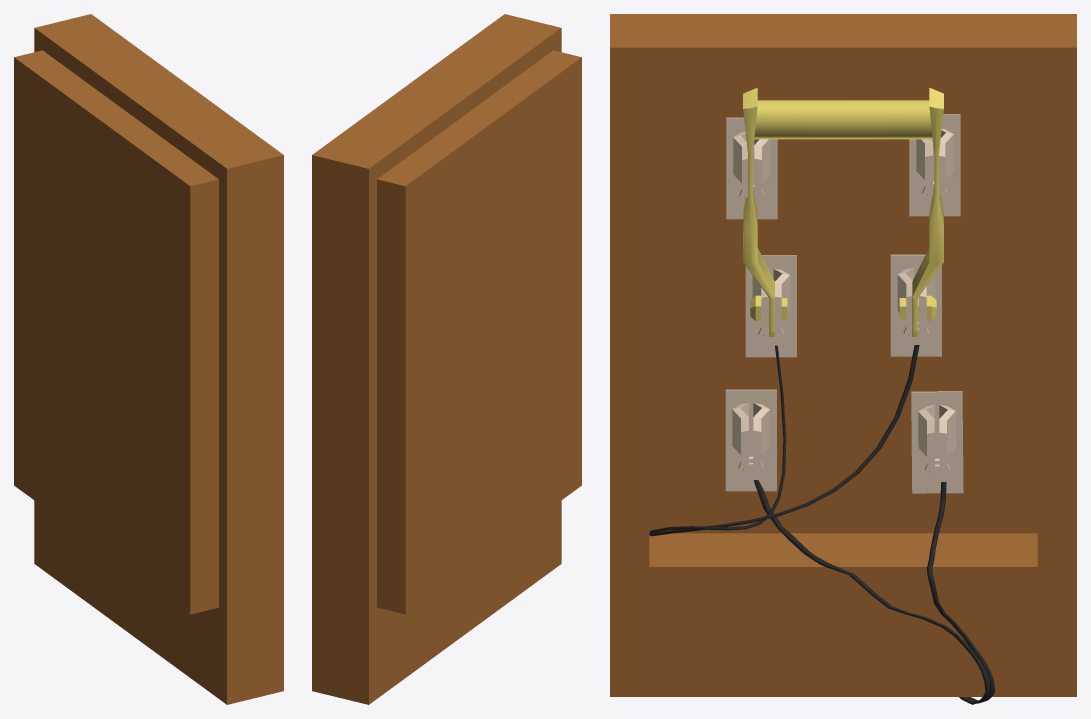
Rendered from Blackout_Lever.fbx.
The picture shows the model from 3 angles, left to right: view 1: azimuth 30°, elevation 25°; view 2: azimuth 150°, elevation 25°; view 3: azimuth 270°, elevation 25°; orthographic projection. The views are drawn at different scales.
Parts seen in each view (by area): view 1: Blackout_Box; view 2: Blackout_Box; view 3: Blackout_Box, Blackout_Lever.
Boxes of the visible parts, left/top/right/bottom form: Blackout_Box: left=14, top=14, right=283, bottom=704; Blackout_Box: left=312, top=14, right=581, bottom=704; Blackout_Box: left=610, top=14, right=1076, bottom=704; Blackout_Lever: left=743, top=87, right=943, bottom=336.
Size of the model in its own units: 70.98 by 21.65 by 110.
